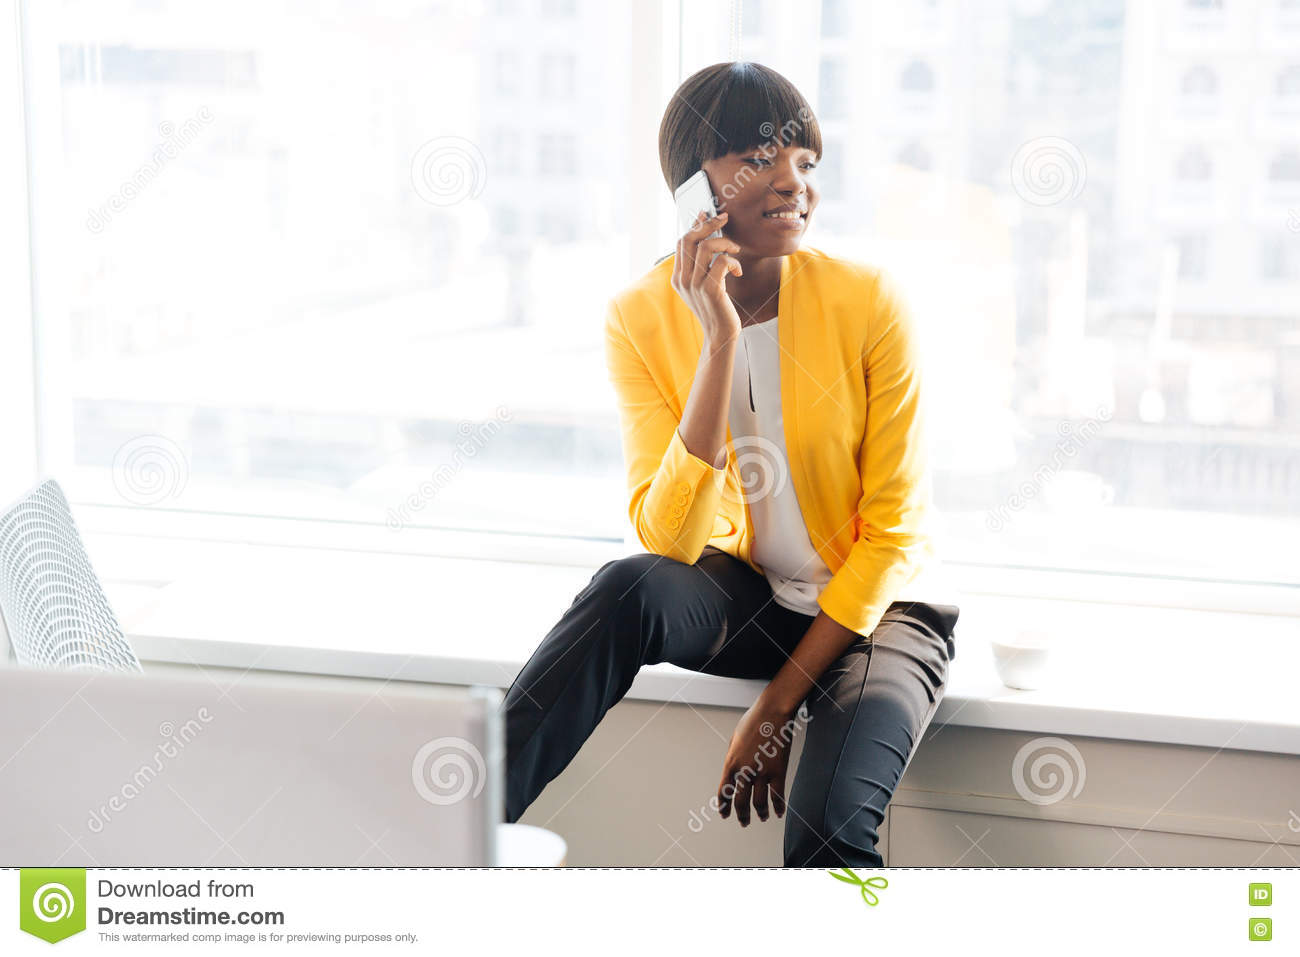phone: (676, 168, 733, 276)
talk: (668, 143, 819, 350)
